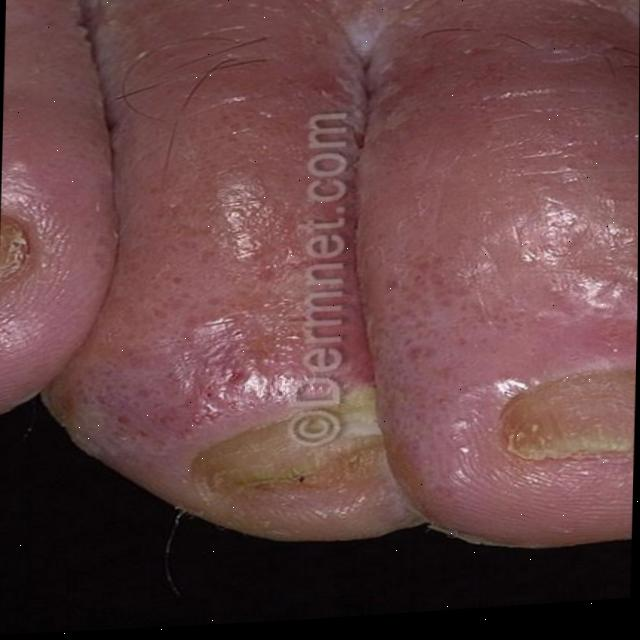Eczema: (0, 180, 546, 427)
